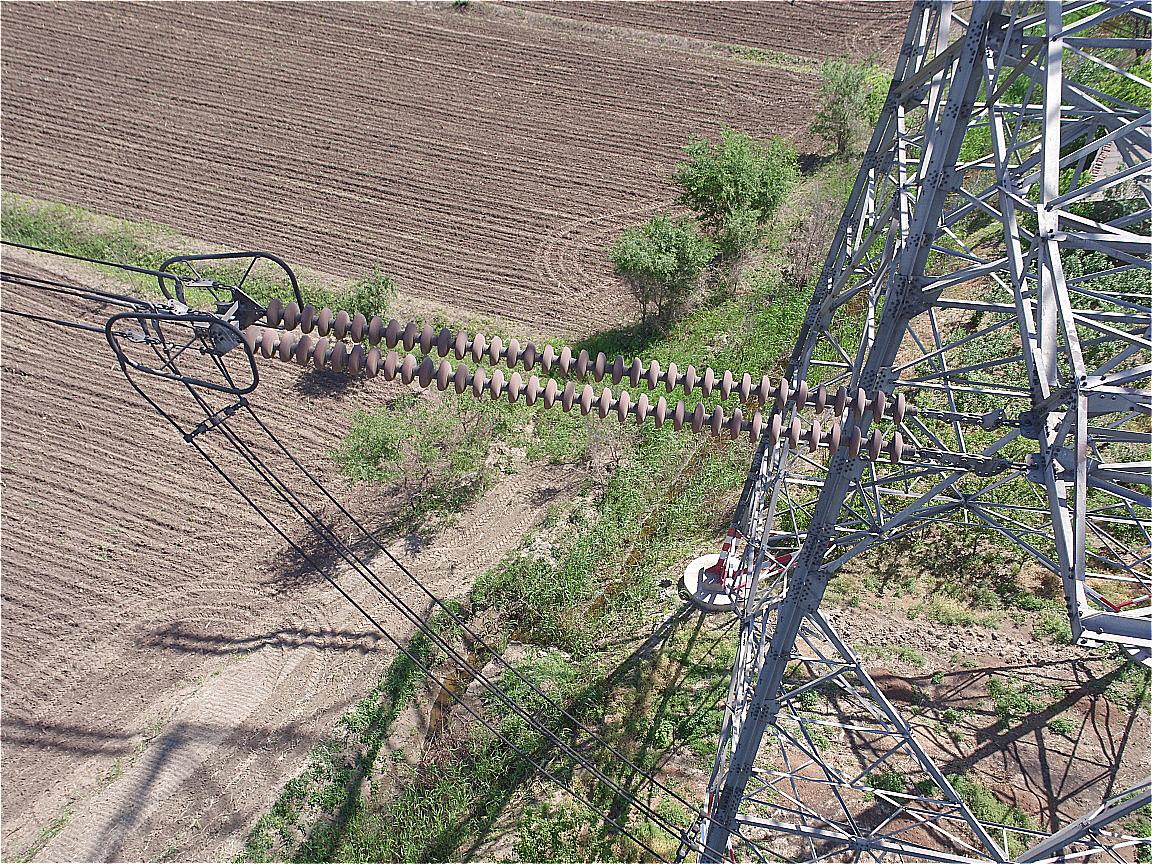insultor1: (236, 282, 923, 469)
